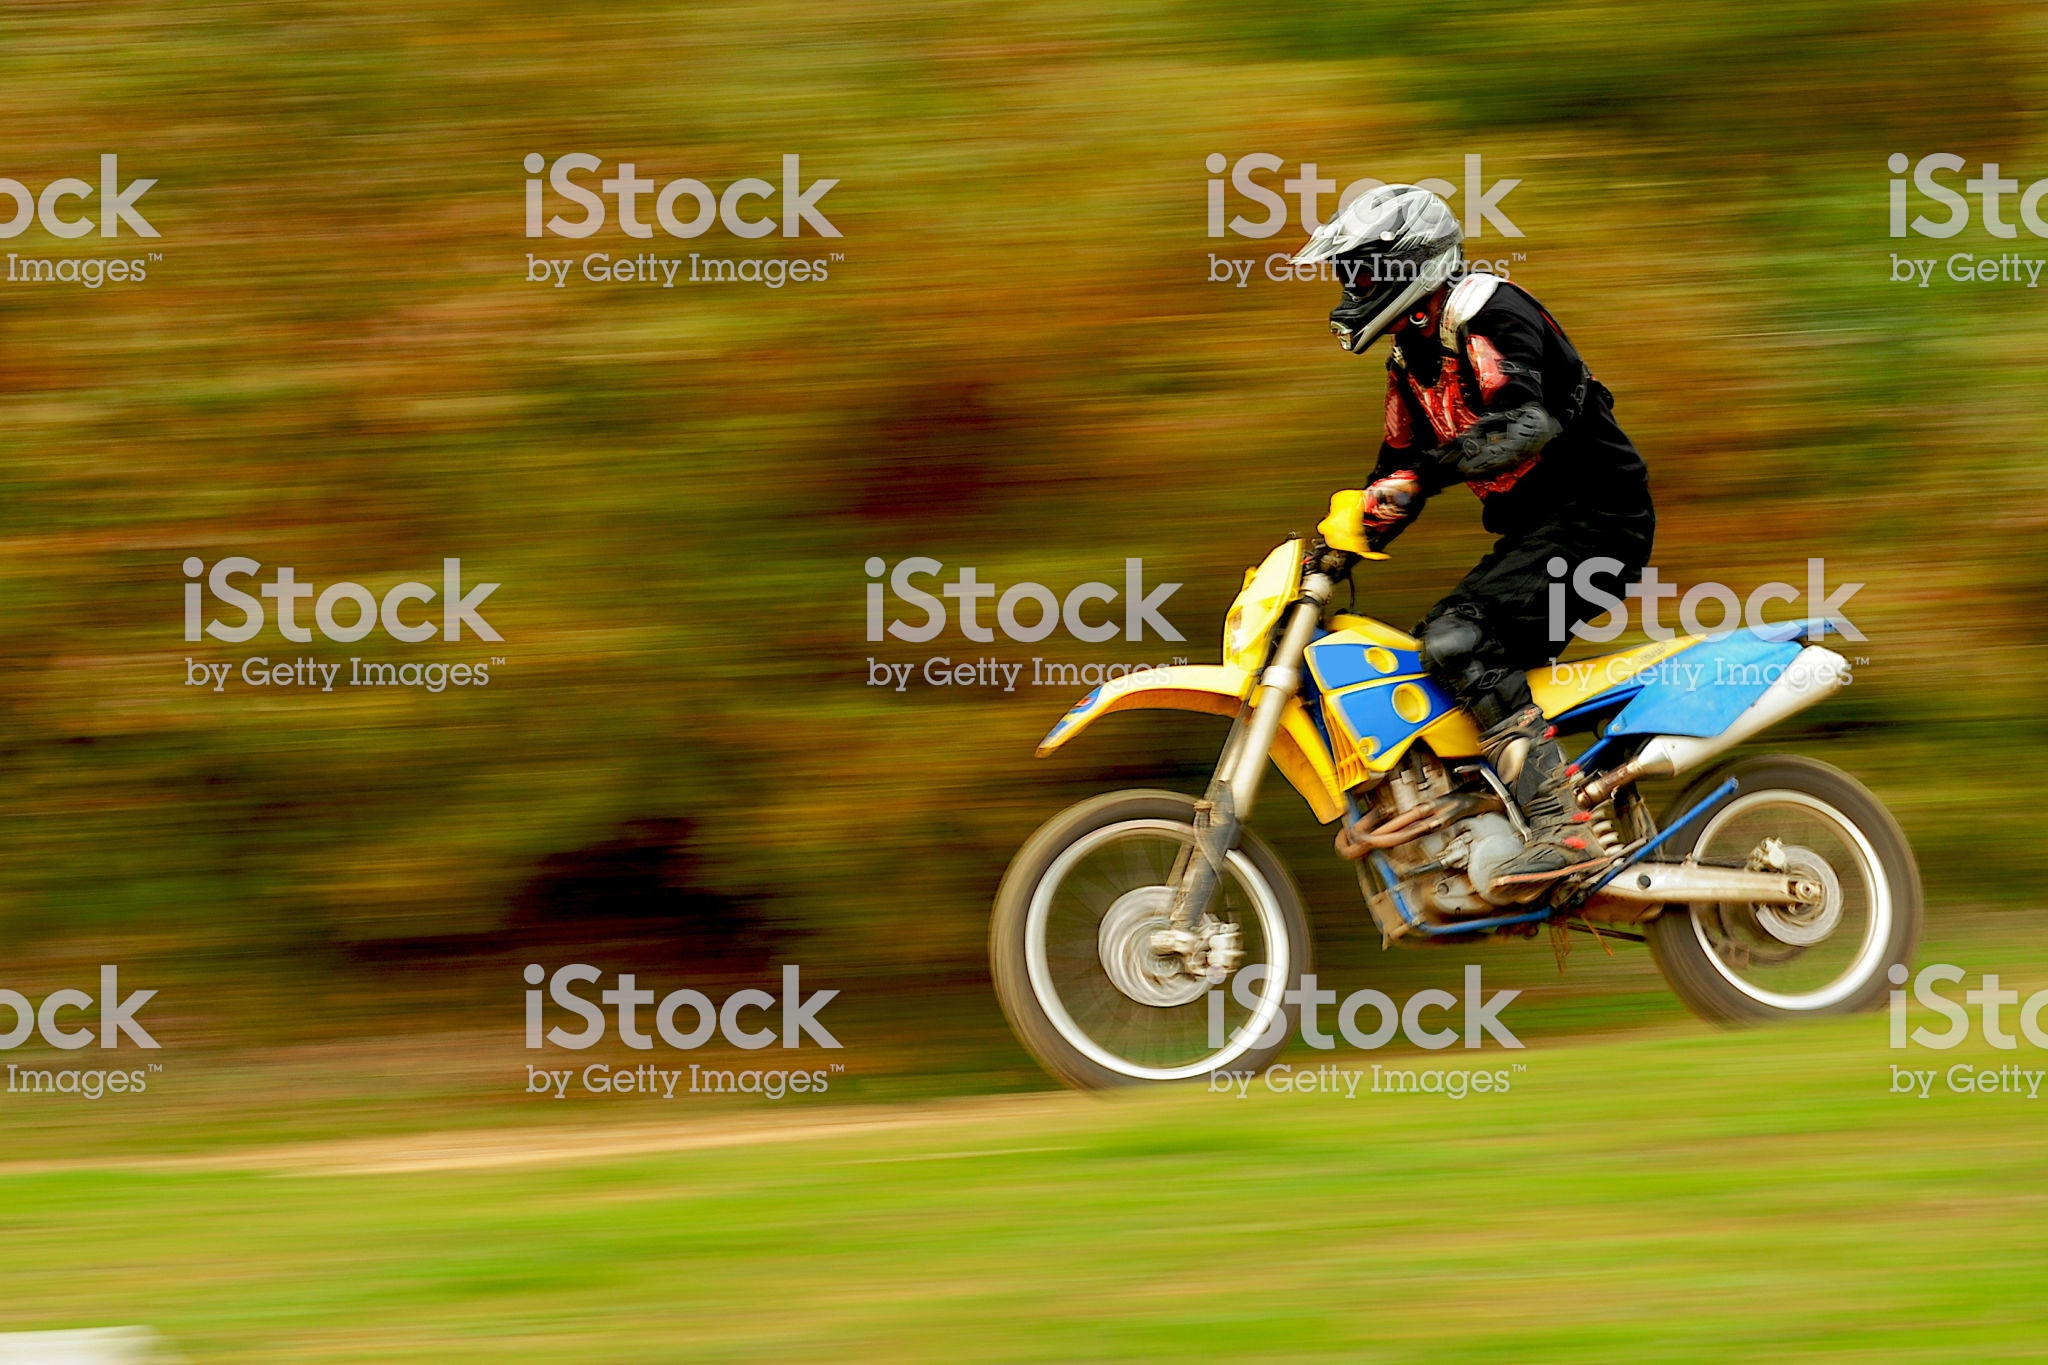helmet: (1284, 177, 1475, 344)
